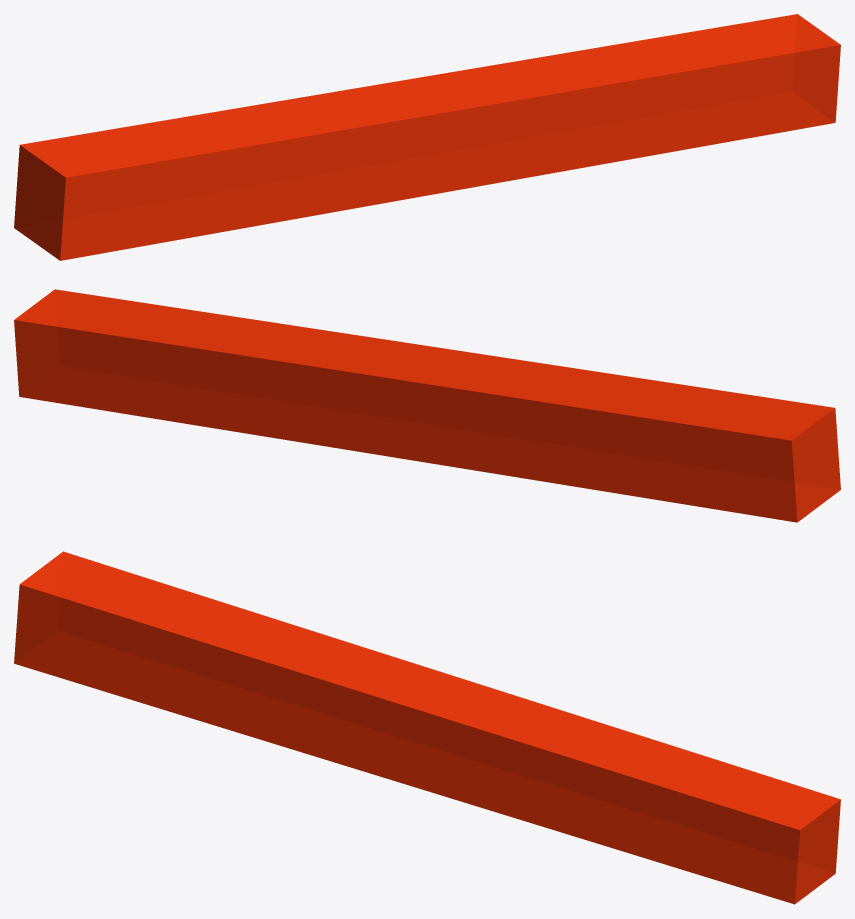
Rendered from Event_421115418_EErechit_11.fbx.
The picture shows the model from 3 angles, top to bottom: view 1: azimuth 30°, elevation 25°; view 2: azimuth 150°, elevation 25°; view 3: azimuth 330°, elevation 25°; orthographic projection.
Visible parts, largest first — view 1: Model; view 2: Model; view 3: Model.
Boxes of the visible parts, bbox=[...] form: Model: bbox=[14, 14, 840, 260]; Model: bbox=[14, 289, 840, 522]; Model: bbox=[14, 551, 840, 904].
Bounding box in the file's own units: 0.7808 × 0.1334 × 0.0872.
